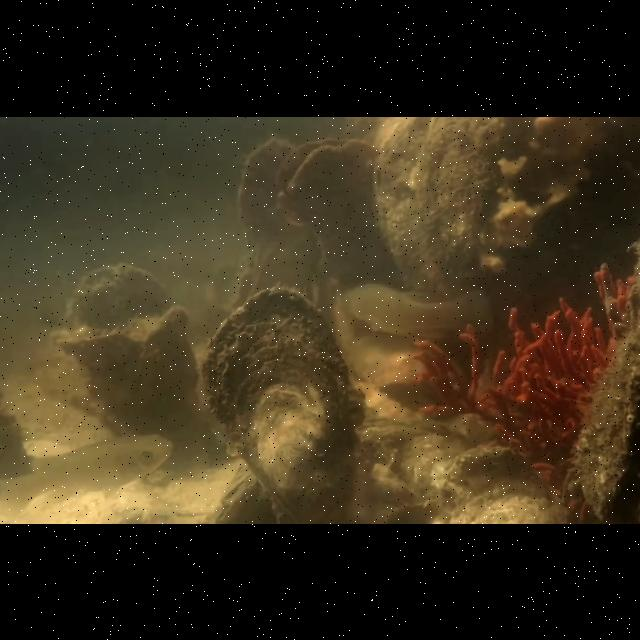Oyster-Closed: (199, 288, 357, 524), (47, 306, 197, 436), (432, 445, 564, 523), (61, 265, 172, 337), (238, 136, 296, 262)
Oyster-Open: (274, 137, 381, 271)
